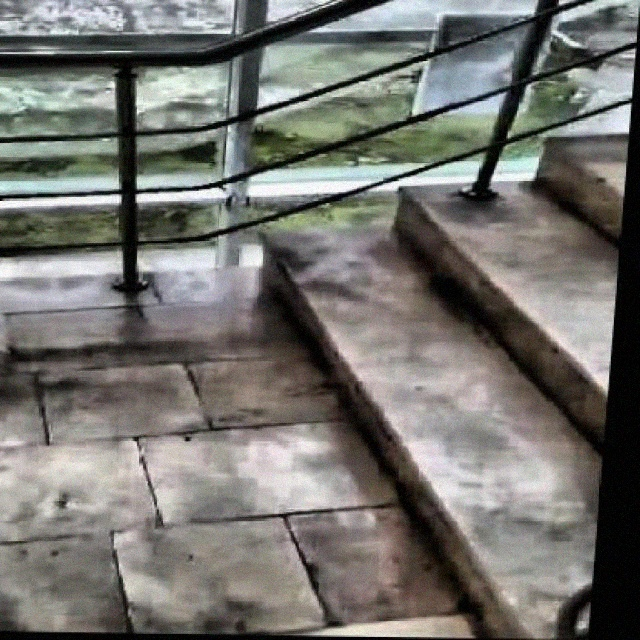stair: (205, 154, 629, 638)
